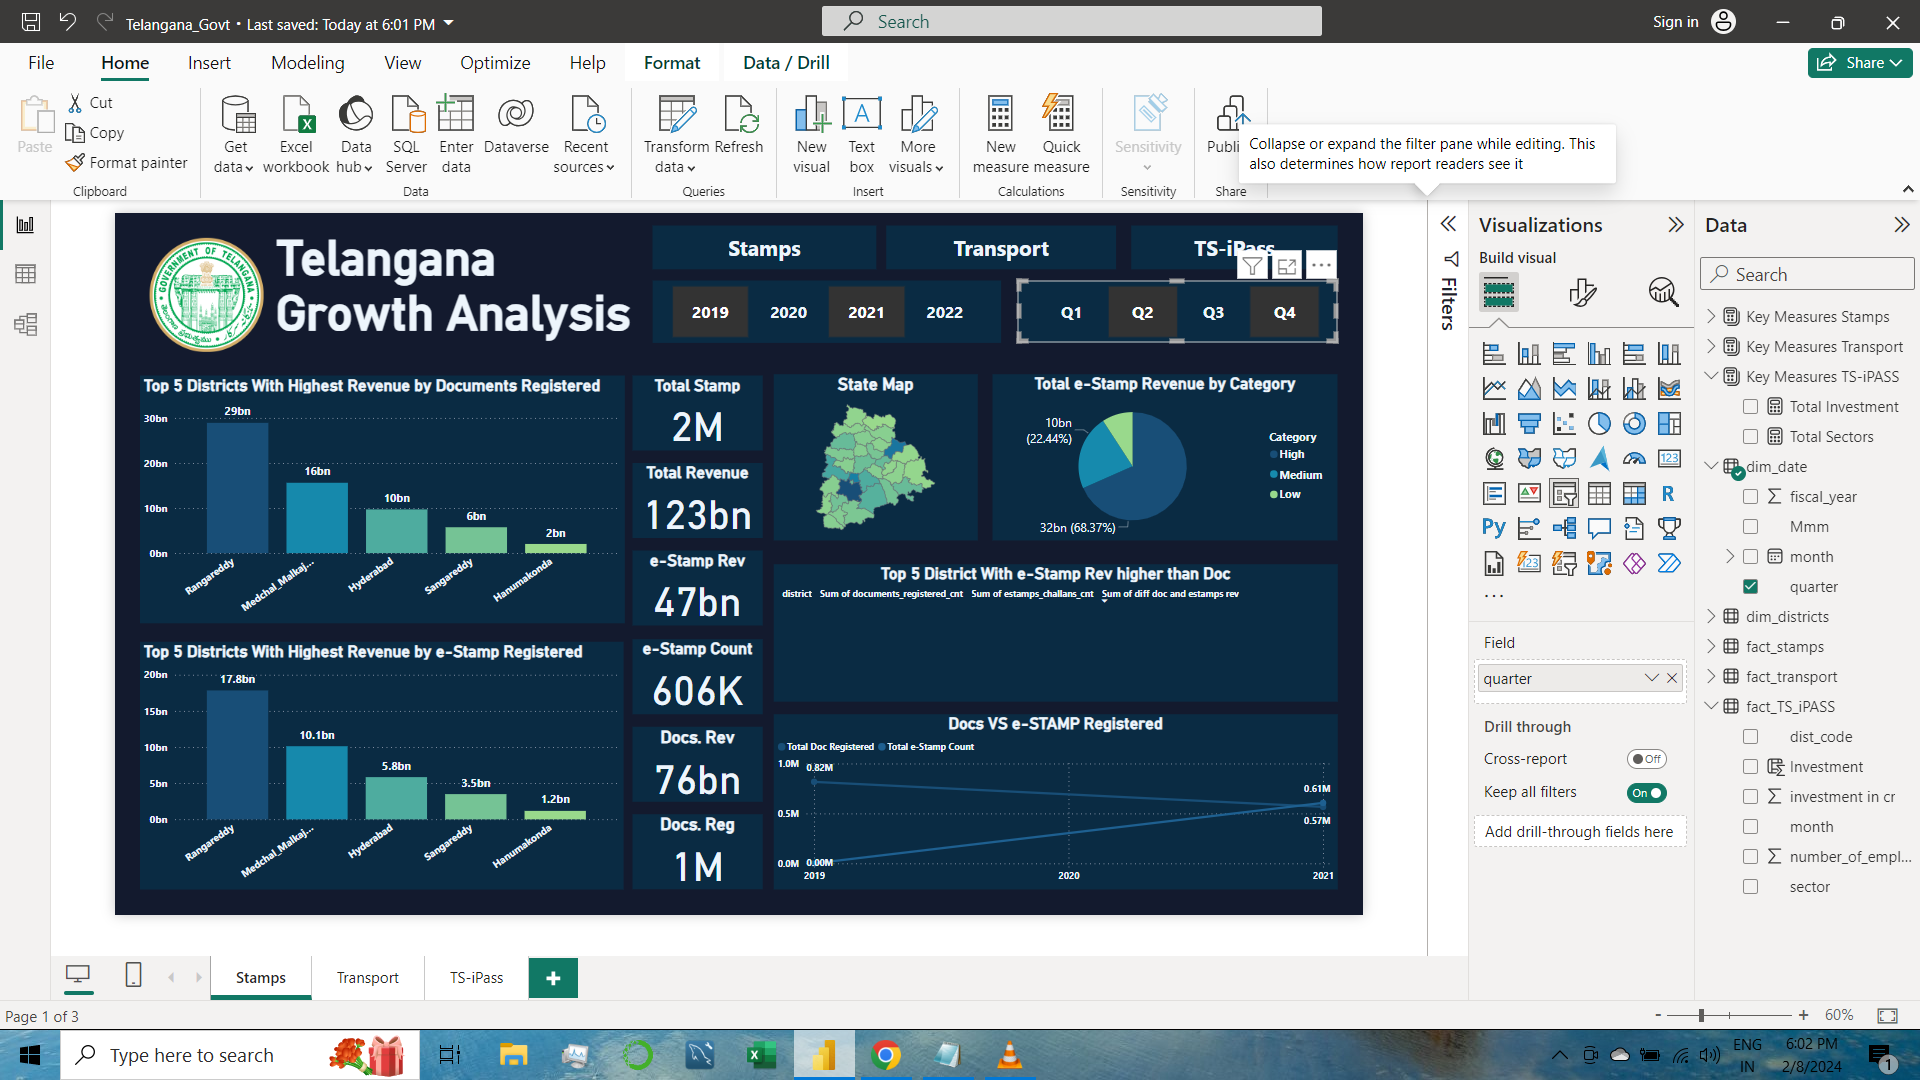

The dashboard page shown, as its layout file describes it:
{"tool":"powerbi","page":{"name":"Stamps","canvas":[1664,936],"ordinal":0},"visuals":[{"type":"slicer","fields":{"Values":["dim_date.fiscal_year"]},"box":[716.7,90,465,83.3],"z":0},{"type":"slicer","fields":{"Values":["dim_date.quarter"]},"box":[1203.3,90,426.7,83.3],"z":1000},{"type":"clusteredColumnChart","title":"Top 5 Districts With Highest Revenue by Documents Registered","fields":{"Y":["Key Measures.Total Docs Reg Revenue"],"Category":["dim_districts.district"]},"box":[34,216,646,330],"z":2000},{"type":"clusteredColumnChart","title":"Top 5 Districts With Highest Revenue by e-Stamp Registered","fields":{"Y":["Key Measures.Total e-Stamp Revenue"],"Category":["dim_districts.district"]},"box":[33.3,571.7,645,330],"z":3000},{"type":"lineChart","title":"Docs VS e-STAMP Registered","fields":{"Y":["Key Measures.Total Doc Registered","Key Measures.Total e-Stamp Count"],"Category":["dim_date.fiscal_year"]},"box":[878.3,668.3,751.7,233.3],"z":4000},{"type":"tableEx","title":"Top 5 District With e-Stamp Rev higher than Doc","fields":{"Values":["dim_districts.district","Sum(fact_stamps.documents_registered_cnt)","Sum(fact_stamps.estamps_challans_cnt)","Sum(fact_stamps.diff doc and estamps rev)"]},"box":[878.3,468.3,751.7,183.3],"z":5000},{"type":"pieChart","fields":{"Y":["Key Measures.Total e-Stamp Revenue"],"Category":["fact_stamps.Category"]},"box":[1170,215,460,221.7],"z":6000},{"type":"card","title":"Docs. Reg","fields":{"Values":["Key Measures.Total Doc Registered"]},"box":[690,801.7,173.3,100],"z":7000},{"type":"card","title":"Docs. Rev","fields":{"Values":["Key Measures.Total Docs Reg Revenue"]},"box":[690,684.7,173.3,100],"z":8000},{"type":"card","title":"e-Stamp Count","fields":{"Values":["Key Measures.Total e-Stamp Count"]},"box":[690,567.7,173.3,100],"z":9000},{"type":"card","title":"e-Stamp Rev","fields":{"Values":["Key Measures.Total e-Stamp Revenue"]},"box":[690,450.7,173.3,100],"z":10000},{"type":"shapeMap","title":"State Map","fields":{"Category":["dim_districts.district"],"Value":["Key Measures Stamps.Total Doc Registered"]},"box":[878.3,215,271.7,221.7],"z":11000},{"type":"card","title":"Total Revenue","fields":{"Values":["Key Measures.Total Revenue"]},"box":[690,333.7,173.3,100],"z":12000},{"type":"card","title":"Total Stamp","fields":{"Values":["Key Measures.Total Stamps"]},"box":[690,216.7,173.3,100],"z":13000},{"type":"image","box":[33.3,28.3,176.7,161.7],"z":14000},{"type":"textbox","box":[210,16.7,506.7,173.3],"z":15000},{"type":"actionButton","box":[716.7,16.7,298.3,58.3],"z":16000},{"type":"actionButton","box":[1355,16.7,275,58.3],"z":17000},{"type":"actionButton","box":[1028.3,16.7,306.7,58.3],"z":18000}]}

Visuals, with their boxes on the page's 1664x936 design canvas (x1, y1, x2, y2). These are canvas units, not pixel positions in the 1920x1080 screenshot, which may show the page scaled, cropped or inside an application window:
slicer - dim_date.fiscal_year: (717, 90, 1182, 173)
slicer - dim_date.quarter: (1203, 90, 1630, 173)
"Top 5 Districts With Highest Revenue by Documents Registered" clusteredColumnChart: (34, 216, 680, 546)
"Top 5 Districts With Highest Revenue by e-Stamp Registered" clusteredColumnChart: (33, 572, 678, 902)
"Docs VS e-STAMP Registered" lineChart: (878, 668, 1630, 902)
"Top 5 District With e-Stamp Rev higher than Doc" tableEx: (878, 468, 1630, 652)
pieChart - Key Measures.Total e-Stamp Revenue x fact_stamps.Category: (1170, 215, 1630, 437)
"Docs. Reg" card: (690, 802, 863, 902)
"Docs. Rev" card: (690, 685, 863, 785)
"e-Stamp Count" card: (690, 568, 863, 668)
"e-Stamp Rev" card: (690, 451, 863, 551)
"State Map" shapeMap: (878, 215, 1150, 437)
"Total Revenue" card: (690, 334, 863, 434)
"Total Stamp" card: (690, 217, 863, 317)
image: (33, 28, 210, 190)
textbox: (210, 17, 717, 190)
actionButton: (717, 17, 1015, 75)
actionButton: (1355, 17, 1630, 75)
actionButton: (1028, 17, 1335, 75)
